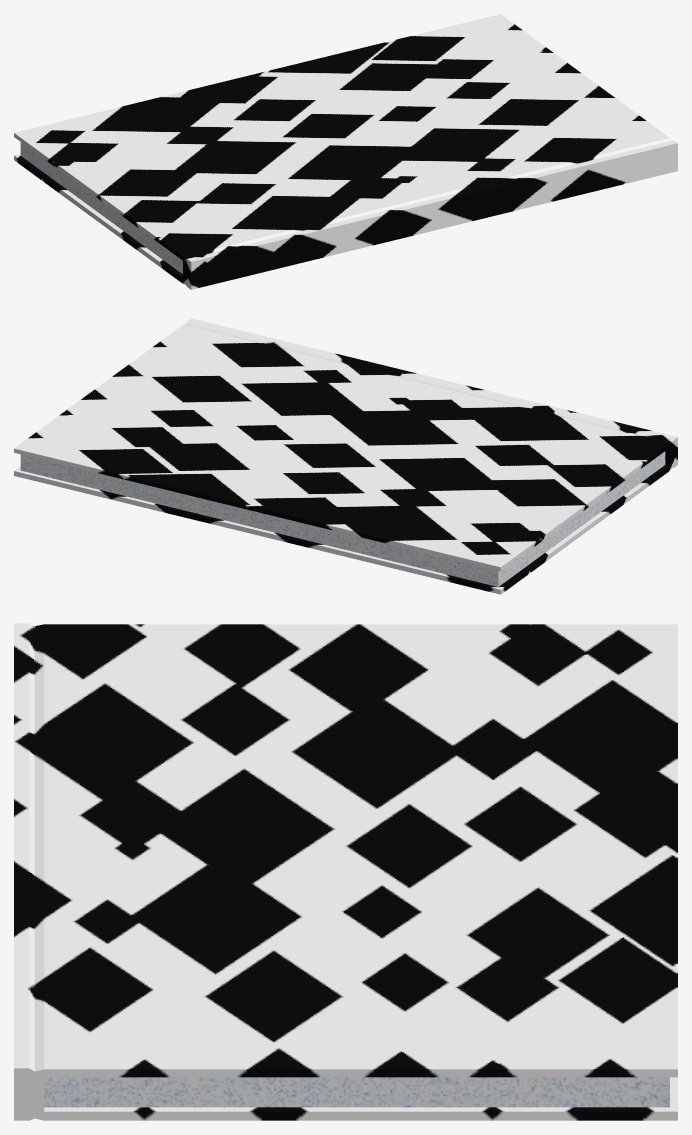
The model's file is NoteBook.fbx.
The picture shows the model from 3 angles, top to bottom: view 1: azimuth 30°, elevation 25°; view 2: azimuth 150°, elevation 25°; view 3: azimuth 270°, elevation 25°; orthographic projection. The views are drawn at different scales.
Parts seen in each view (by area): view 1: NoteBook; view 2: NoteBook; view 3: NoteBook.
Boxes of the visible parts, x1,y1,x2,y2 form: NoteBook: (14,14,677,289); NoteBook: (14,318,677,594); NoteBook: (14,623,677,1120).
Bounding box in the file's own units: 0.487 × 0.0267 × 0.307.
